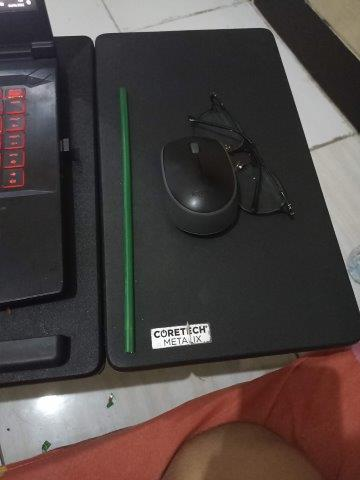sedotan: (119, 87, 134, 352)
